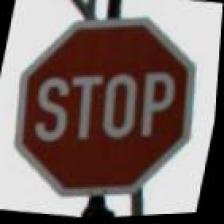Stop: (0, 0, 214, 219)
